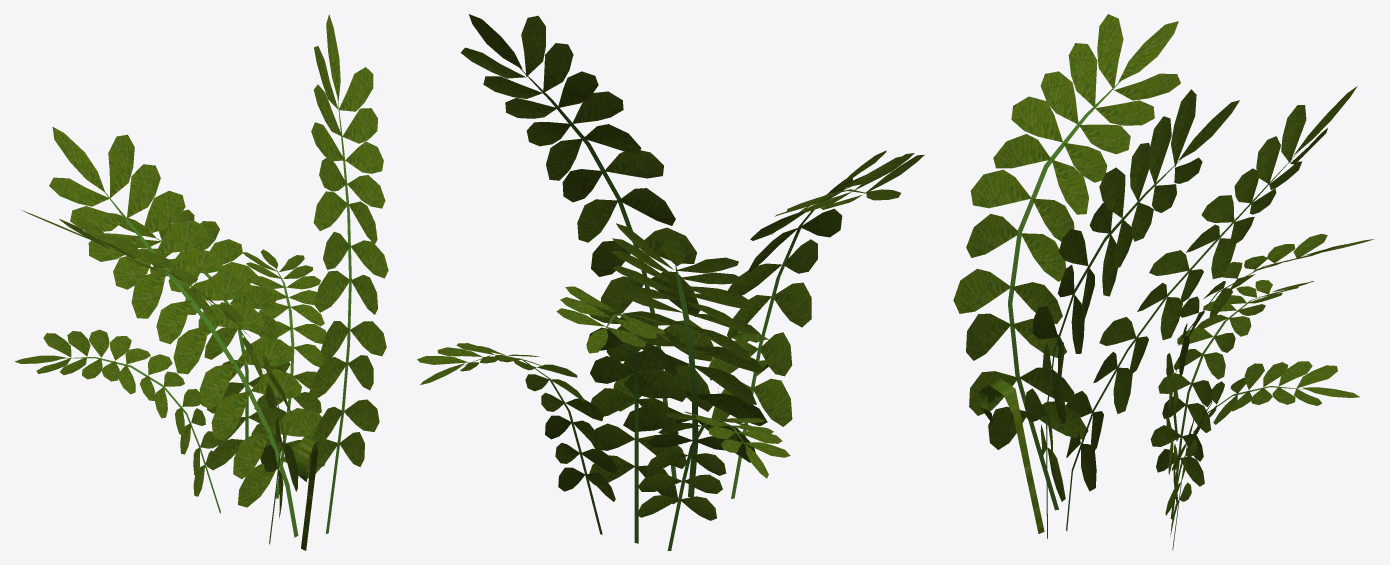
File: ferns.fbx
3 views of the same model, side by side, from view 1: azimuth 30°, elevation 25°; view 2: azimuth 150°, elevation 25°; view 3: azimuth 270°, elevation 25° (orthographic). The views are drawn at different scales.
Visible parts, largest first — view 1: fern1, fern2; view 2: fern1, fern2; view 3: fern1, fern2.
Boxes of the visible parts, x1,y1,x2,y2 form: fern1: [22, 14, 388, 550]; fern2: [15, 209, 326, 513]; fern1: [460, 14, 924, 498]; fern2: [417, 286, 790, 550]; fern1: [953, 14, 1357, 538]; fern2: [1150, 234, 1374, 550].
Bounding box in the file's own units: 207 × 243 × 187.
Materials: 1 (1 with a texture image).
